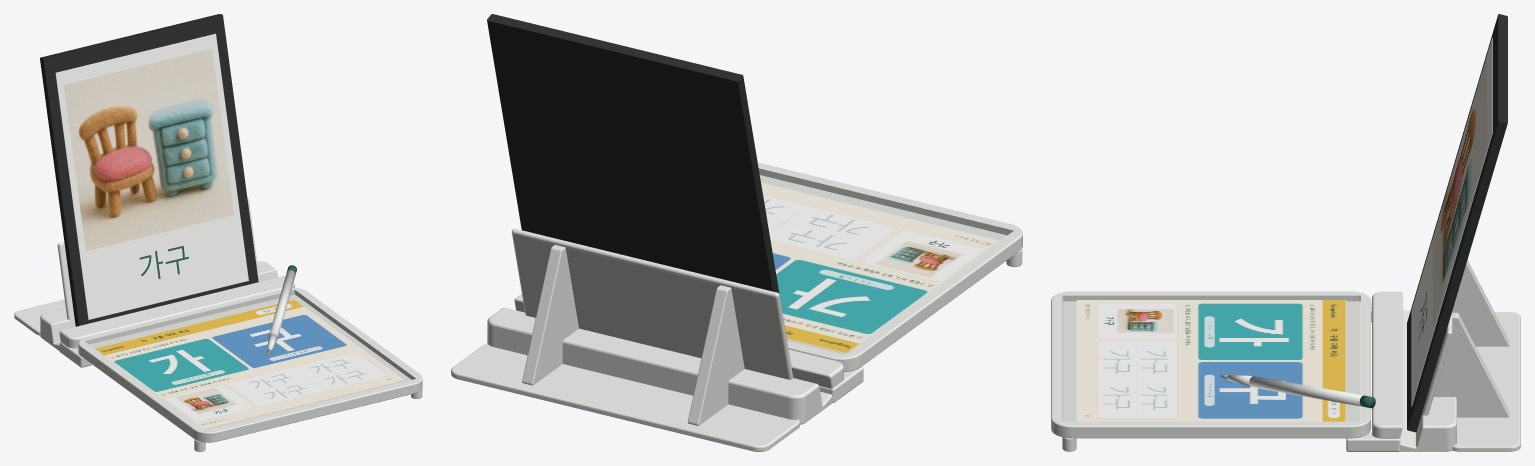
The model's file is tangonote-connected-v2.glb.
The picture shows the model from 3 angles, left to right: view 1: azimuth 30°, elevation 25°; view 2: azimuth 150°, elevation 25°; view 3: azimuth 270°, elevation 25°; orthographic projection. The views are drawn at different scales.
Visible parts, largest first — view 1: Tablet furniture picture only, Printed worksheet artwork, Tablet display, Original tablet, Original board, Original cradle, Flat writing insert - no studs, Pen body, Paper edge tucked into concealed left slot; view 2: Original tablet, Original cradle, Printed worksheet artwork, Original board, Flat writing insert - no studs; view 3: Printed worksheet artwork, Original cradle, Original board, Original tablet, Tablet furniture picture only, Tablet display, Flat writing insert - no studs, Pen body.
Boxes of the visible parts, x1,y1,x2,y2 form: Tablet furniture picture only: (63, 49, 234, 250); Printed worksheet artwork: (95, 300, 403, 428); Tablet display: (55, 33, 248, 319); Original tablet: (40, 14, 258, 326); Original board: (78, 287, 422, 442); Original cradle: (14, 198, 294, 367); Flat writing insert - no studs: (89, 294, 411, 429); Pen body: (269, 270, 295, 337); Paper edge tucked into concealed left slot: (94, 299, 404, 428); Original tablet: (487, 14, 787, 344); Original cradle: (451, 228, 863, 451); Printed worksheet artwork: (761, 183, 999, 352); Original board: (757, 162, 1022, 371); Flat writing insert - no studs: (759, 175, 1007, 354); Printed worksheet artwork: (1077, 300, 1345, 421); Original cradle: (1346, 260, 1520, 451); Original board: (1051, 291, 1370, 438); Original tablet: (1407, 14, 1507, 432); Tablet furniture picture only: (1432, 57, 1486, 327); Tablet display: (1411, 37, 1492, 406); Flat writing insert - no studs: (1062, 301, 1360, 421); Pen body: (1249, 376, 1363, 406).
Size of the model in its own units: 0.228 by 0.2462 by 0.331.
9 materials, 2 textured.
